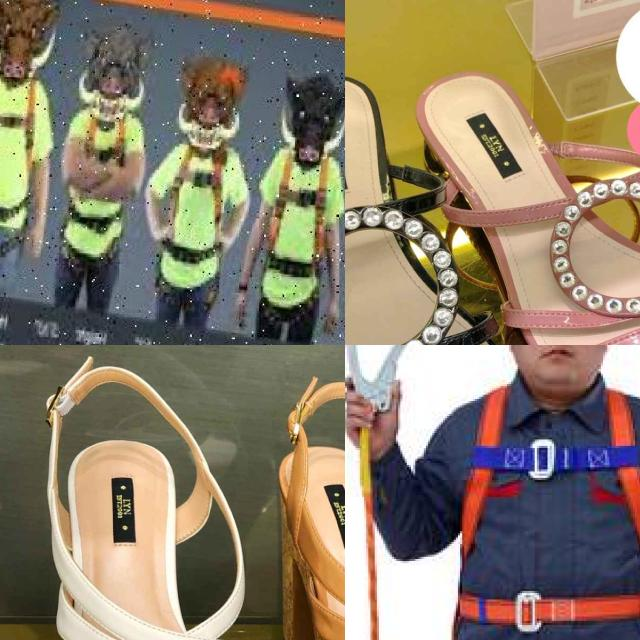Harness: (441, 382, 640, 640), (248, 142, 342, 332), (148, 138, 242, 316), (53, 96, 141, 276), (0, 67, 49, 268)
Sandals: (6, 345, 293, 640), (381, 48, 640, 345), (345, 56, 557, 345), (257, 358, 345, 640)
